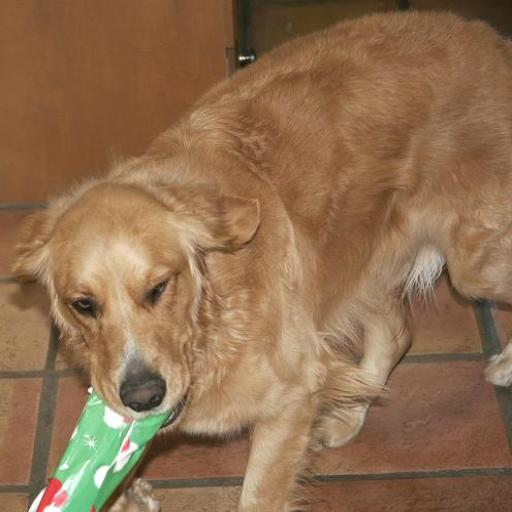dog_face: (22, 190, 261, 420)
